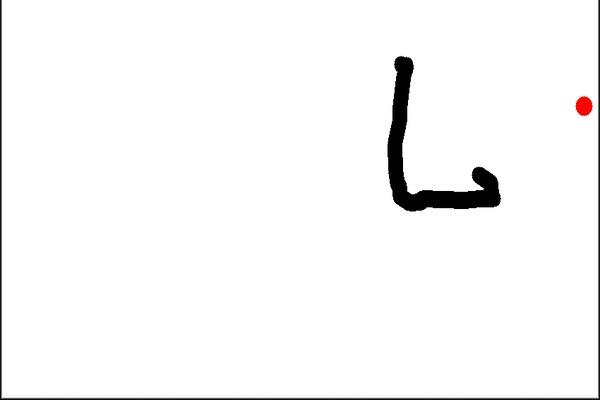L: (379, 47, 505, 222)
